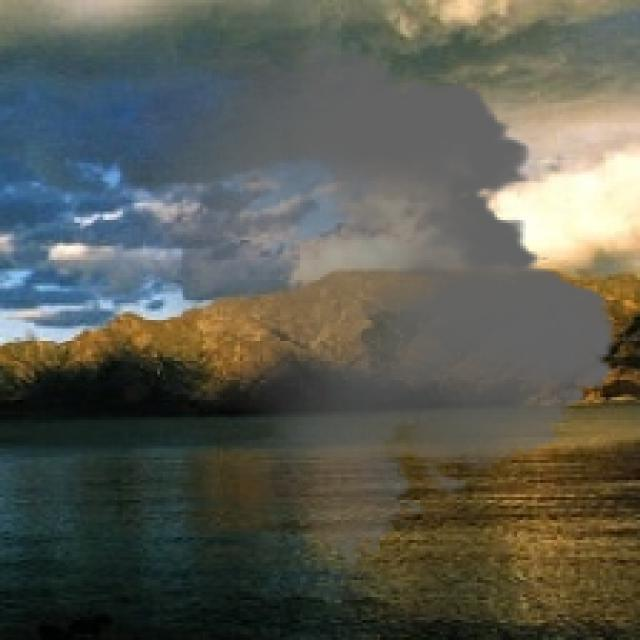Smoke: (97, 37, 634, 569)
